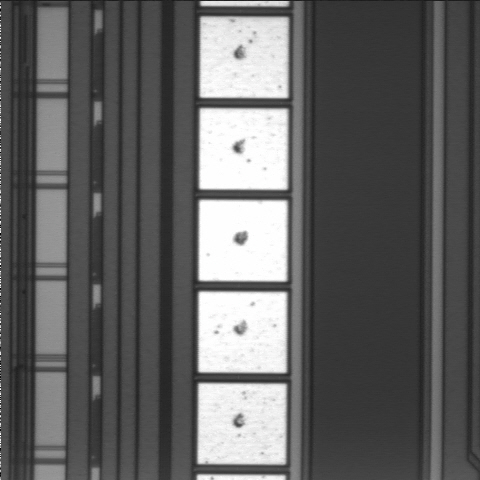pad: (199, 108, 288, 190), (199, 200, 288, 282), (198, 292, 287, 373), (200, 17, 288, 98), (198, 383, 286, 464)
